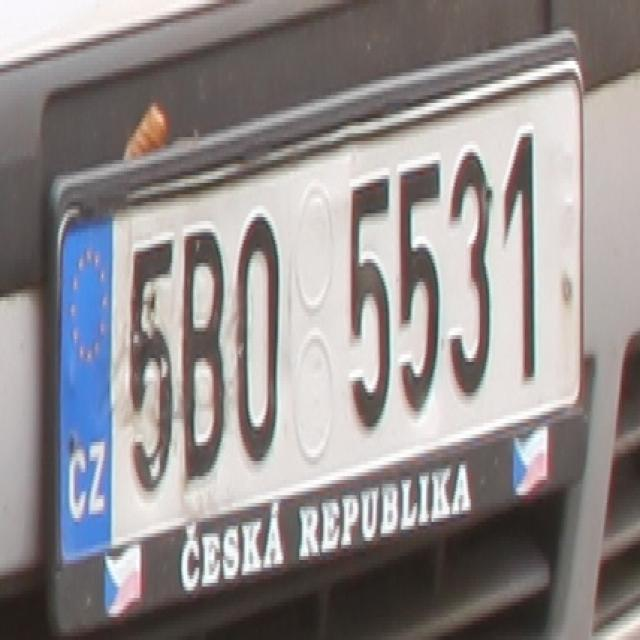0: (233, 209, 280, 461)
1: (501, 114, 538, 385)
3: (447, 141, 491, 400)
5: (396, 152, 441, 427), (126, 228, 172, 492), (345, 168, 392, 426)
B: (181, 221, 224, 480)
